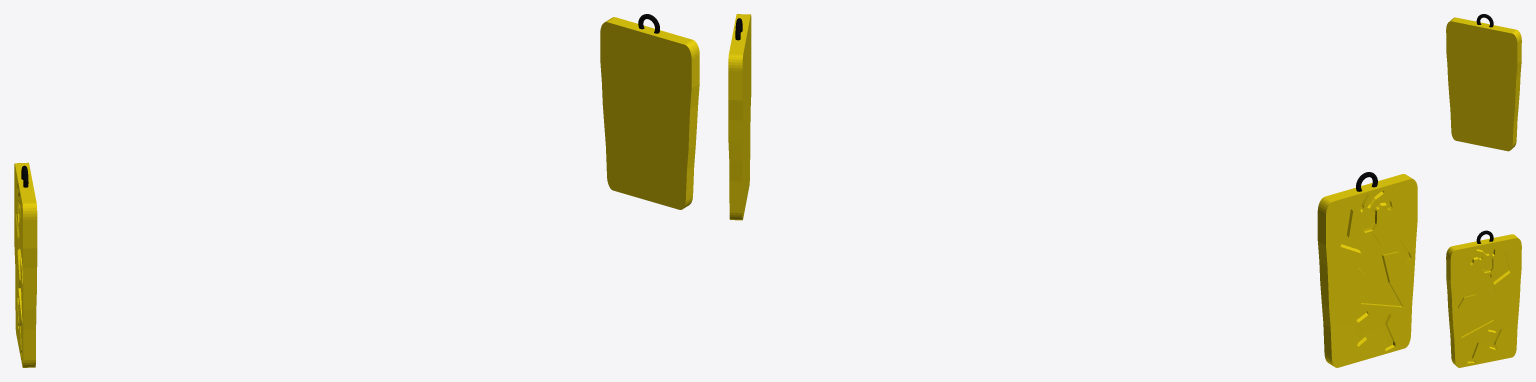
The model's file is Arete Figura.glb.
The picture shows the model from 3 angles, left to right: view 1: azimuth 30°, elevation 25°; view 2: azimuth 150°, elevation 25°; view 3: azimuth 270°, elevation 25°; orthographic projection. The views are drawn at different scales.
Parts seen in each view (by area): view 1: Cube.001; view 2: Cube.001; view 3: Cube.001.
Part boxes in pixels (bbox=[...]): Cube.001: bbox=[14, 14, 699, 367]; Cube.001: bbox=[728, 14, 1417, 367]; Cube.001: bbox=[1446, 14, 1521, 367].
Size of the model in its own units: 0.1715 by 0.0443 by 0.0234.
